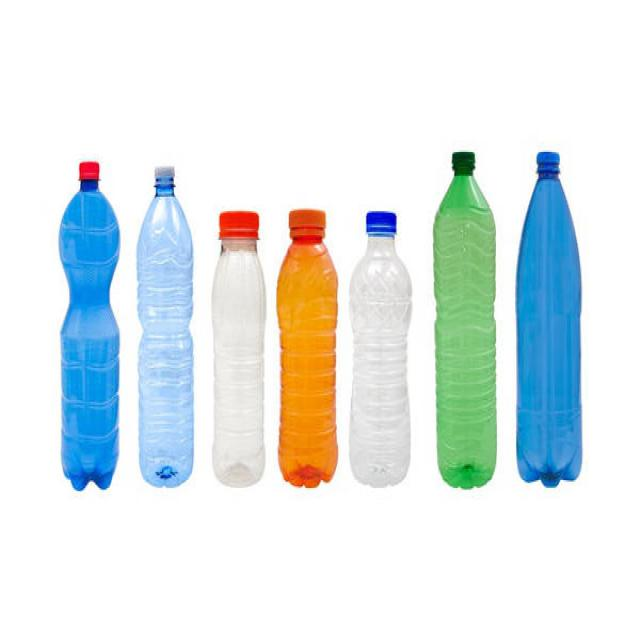plastic: (516, 152, 583, 485), (433, 152, 497, 489), (60, 162, 120, 492), (136, 166, 196, 489), (277, 210, 339, 489), (349, 210, 411, 484), (214, 212, 266, 488)
